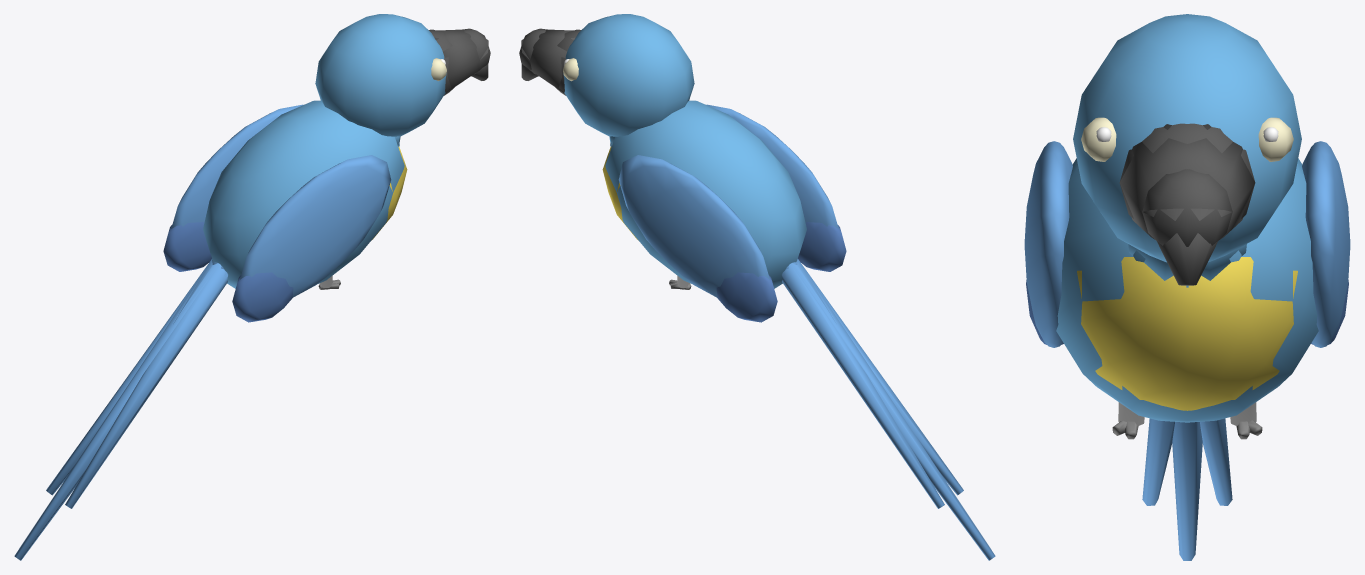
Rendered from blue-and-yellow-macaw.glb.
The picture shows the model from 3 angles, left to right: view 1: azimuth 30°, elevation 25°; view 2: azimuth 150°, elevation 25°; view 3: azimuth 270°, elevation 25°; orthographic projection. The views are drawn at different scales.
Parts seen in each view (by area): view 1: e, e.011, e.002, e.004; view 2: e, e.011, e.004, e.002; view 3: e, e.011, e.002, e.004, e.009, limb.003, limb.007.
Boxes of the visible parts, x1,y1,x2,y2 form: e: (14,100,407,560); e.011: (315,14,490,136); e.002: (232,155,391,322); e.004: (163,104,303,271); e: (602,100,995,560); e.011: (519,14,694,136); e.004: (618,155,777,322); e.002: (706,104,846,271); e: (1056,158,1318,560); e.011: (1073,14,1301,285); e.002: (1024,141,1072,347); e.004: (1302,141,1350,347); e.009: (1128,244,1246,280); limb.003: (1112,402,1144,439); limb.007: (1230,402,1262,439).
Size of the model in its own units: 0.7855 by 0.7175 by 0.242.
